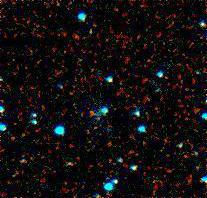star: (56, 148, 86, 178)
